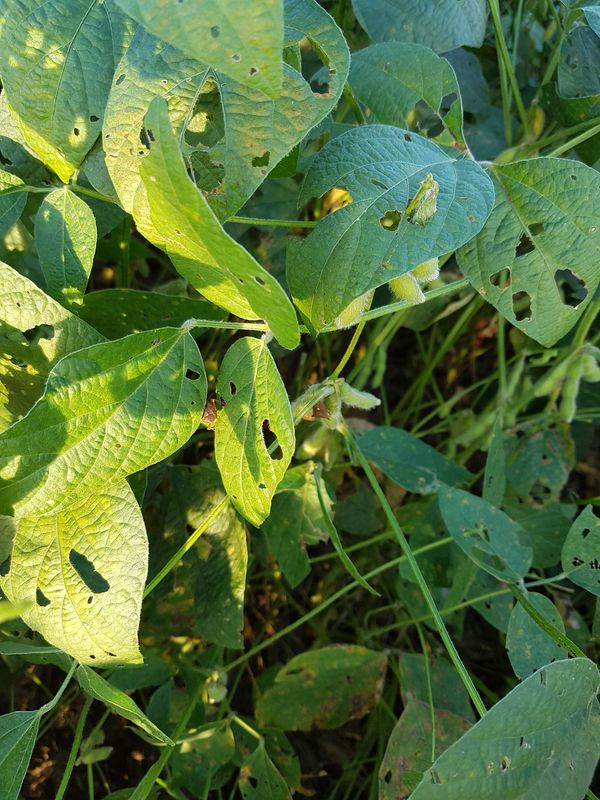Euschistus_heros_adulto: (194, 393, 231, 429), (306, 397, 334, 424)
